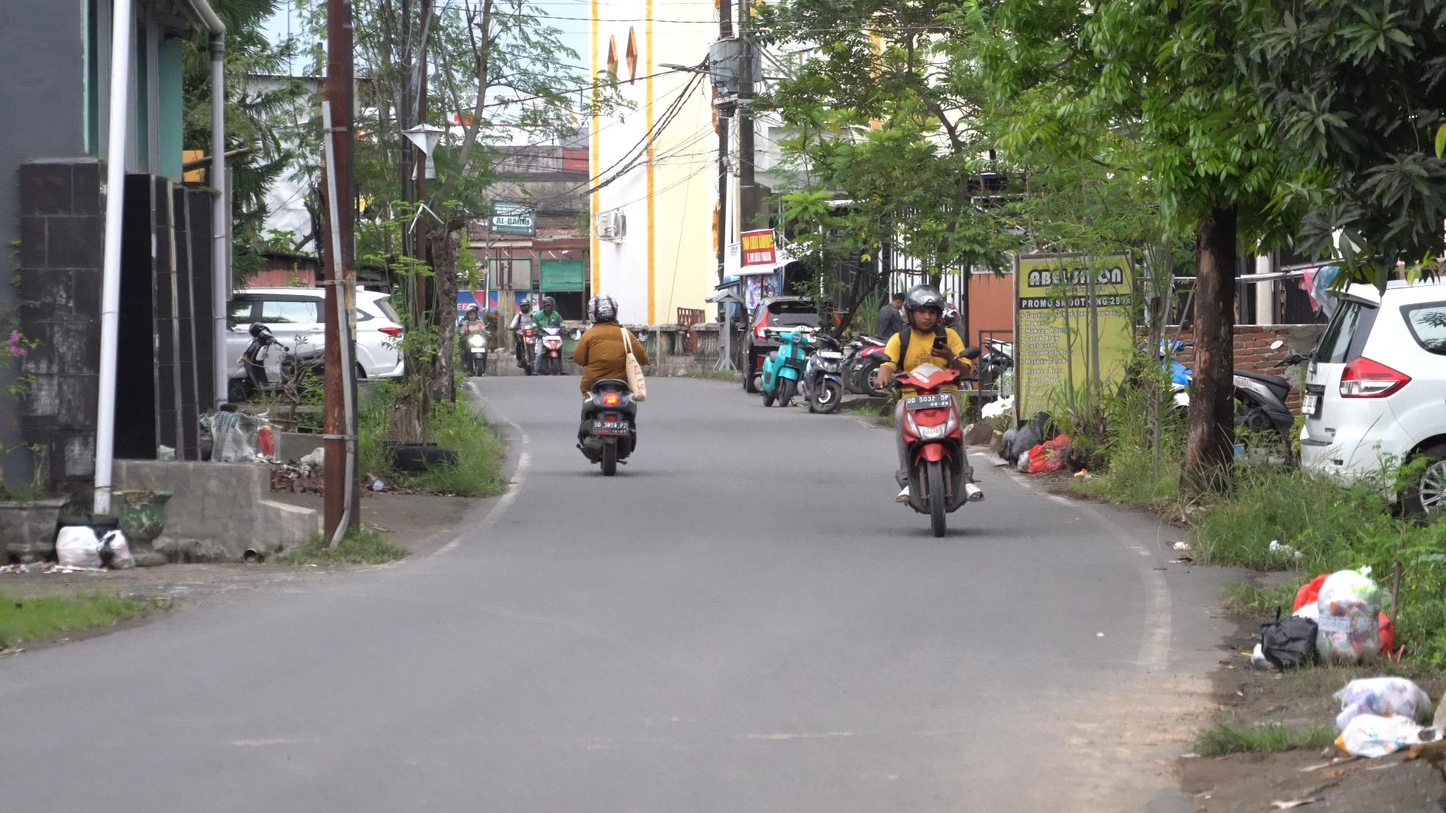number-plate: (904, 392, 954, 409)
